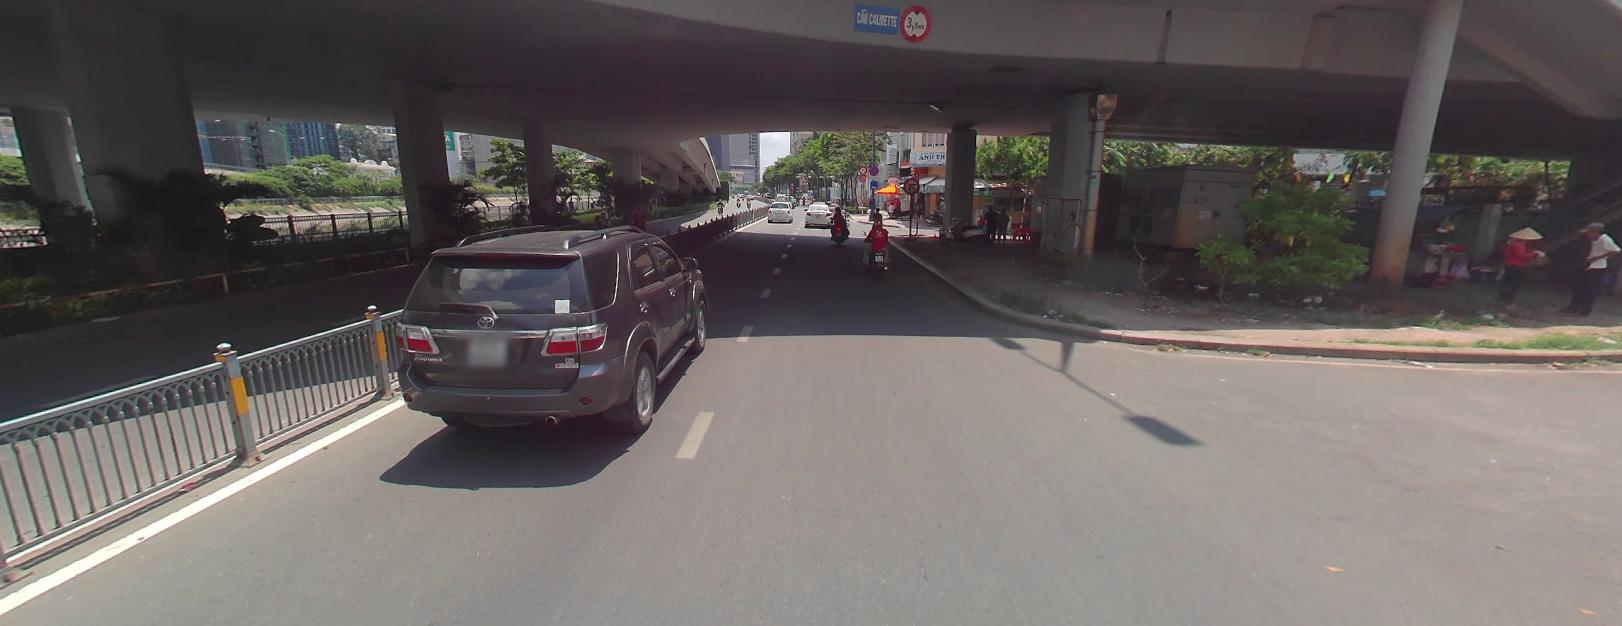Cam con lai: (899, 3, 931, 42), (858, 163, 866, 172)
Cam dung va do: (868, 163, 879, 173)
Cam re: (903, 175, 919, 191)
